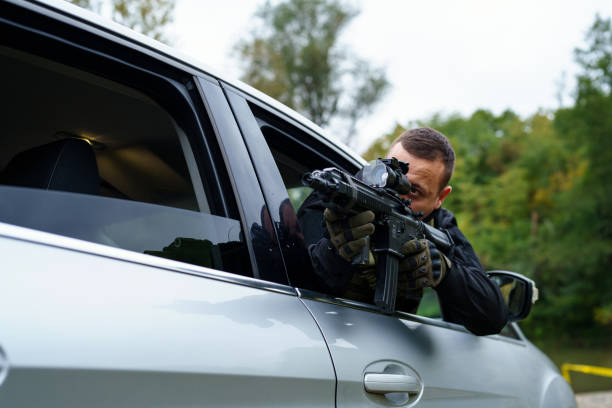gun: (301, 158, 455, 316)
